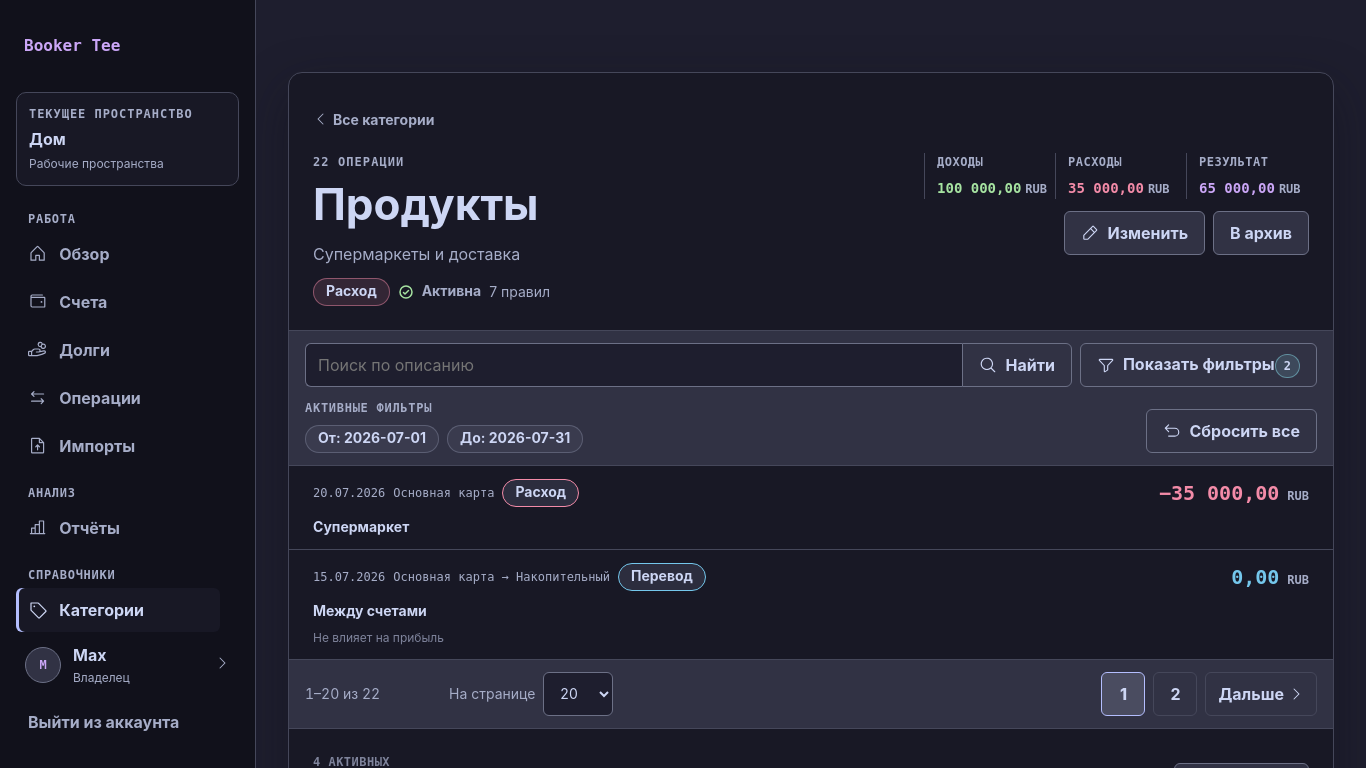
Test: CategoryDetailPage › confirms linked kind impact before saving
Click the button "Изменить": (1135, 233) [1064,211,1205,255]
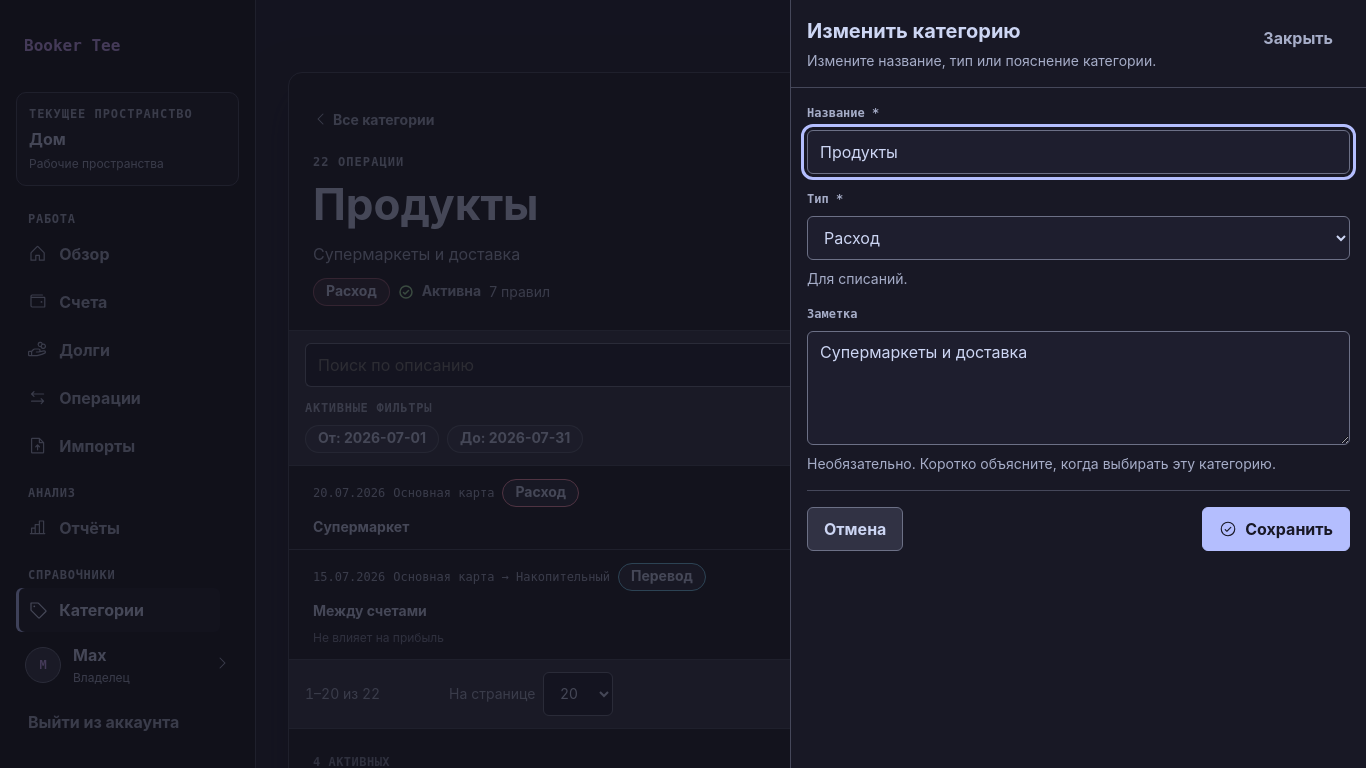
Select "Смешанная" in the dropdown labelled "Тип *": (1078, 238) [807,216,1350,260]
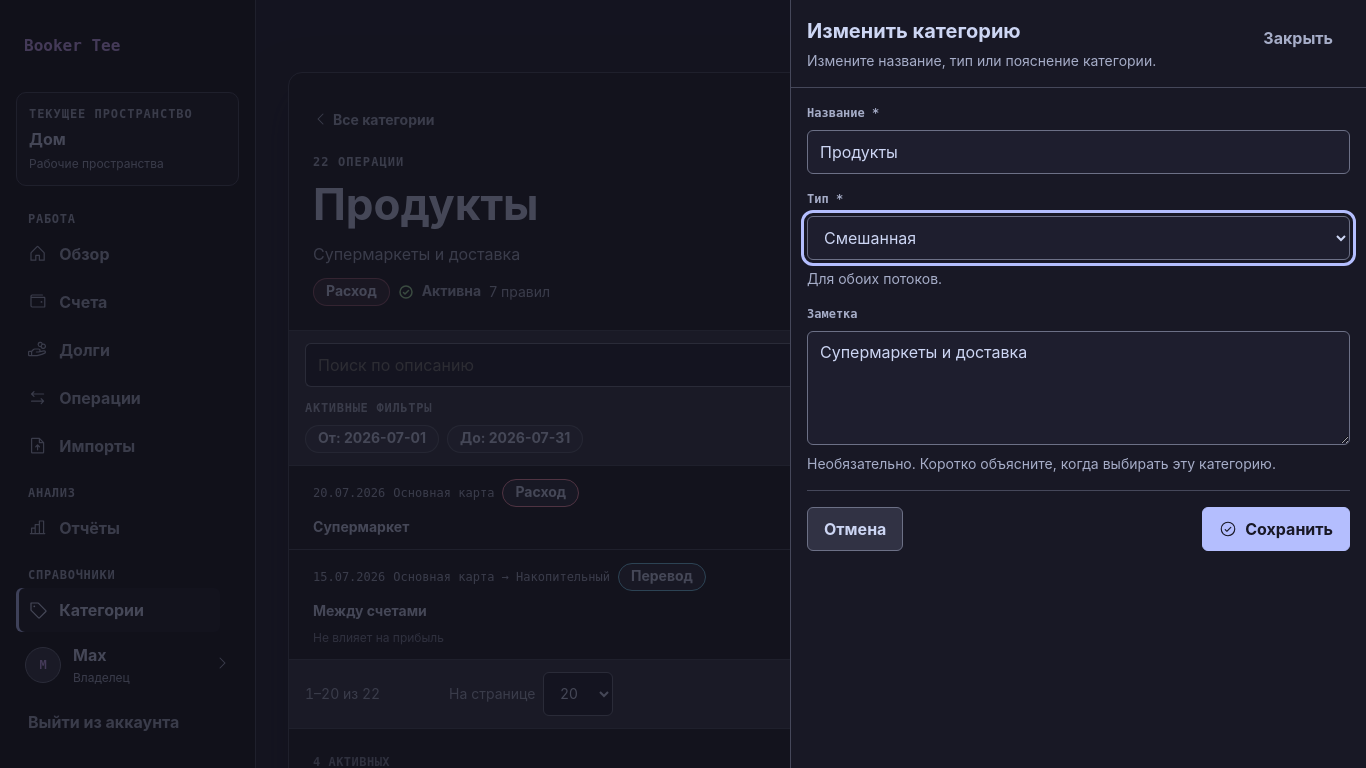
Click the button "Сохранить": (1276, 529) [1202,507,1350,551]
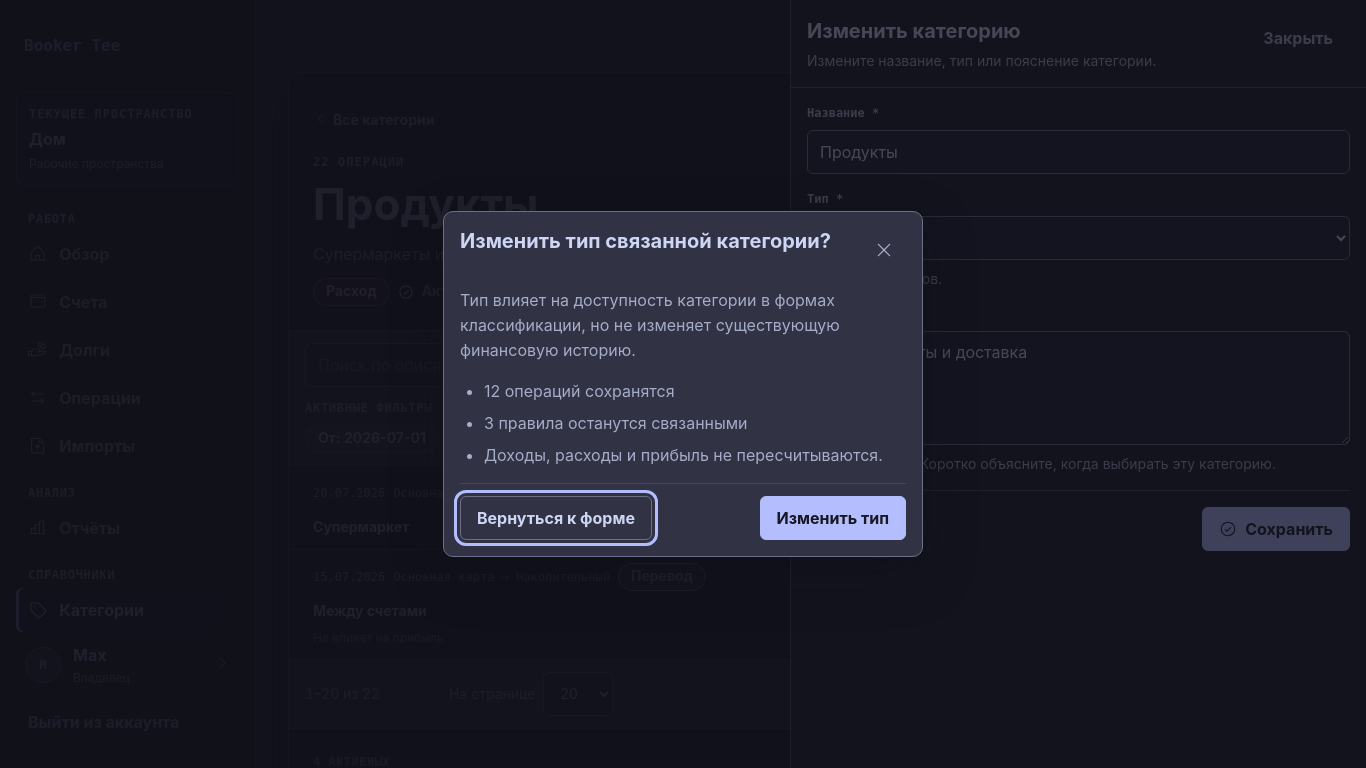
Check: the heading "Изменить тип связанной категории?" is shown, box [460,228,831,255]
Check: the list item "12 операций сохранятся" is shown, box [484,381,674,401]
Check: the list item "3 правила останутся связанными" is shown, box [484,413,748,433]
Click the button "Изменить тип": (833, 518) [760,496,906,540]
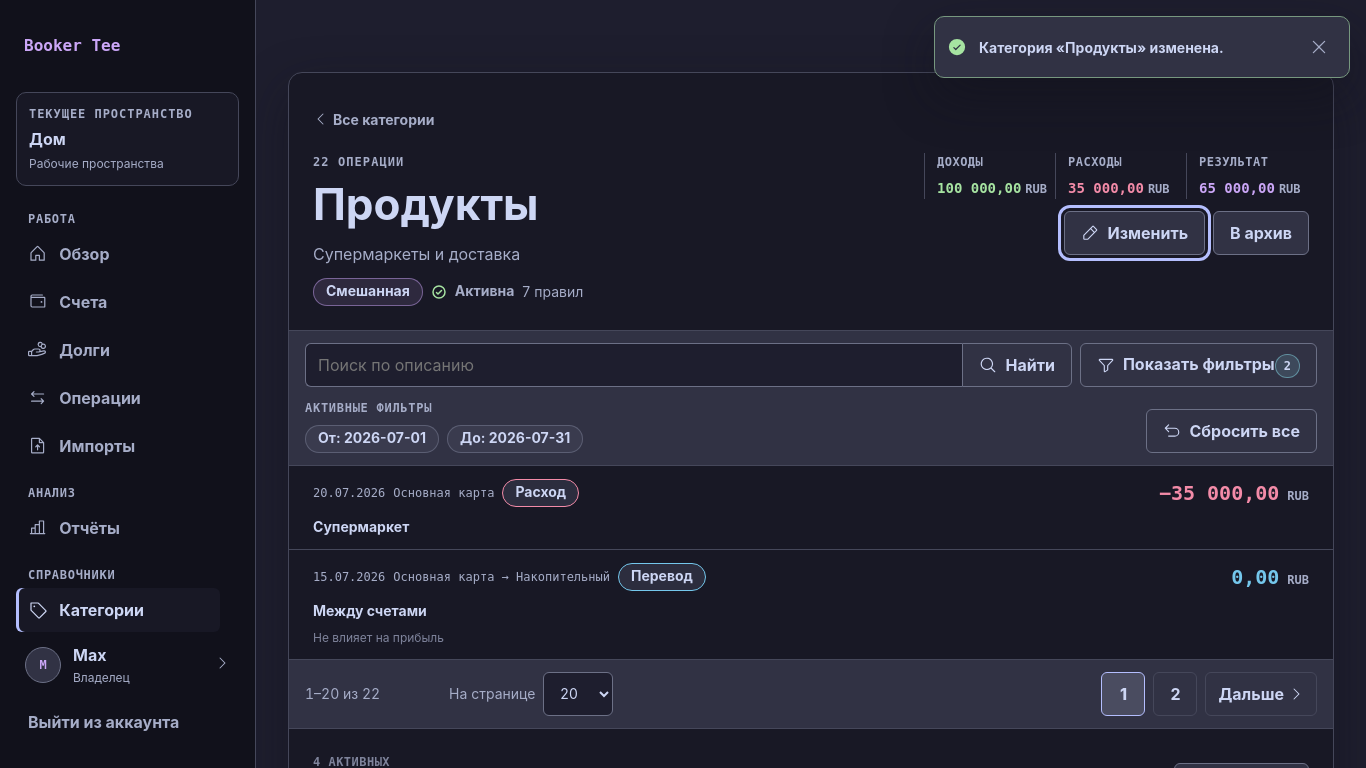
Check: the text "Смешанная" is shown, box [313,278,423,306]
